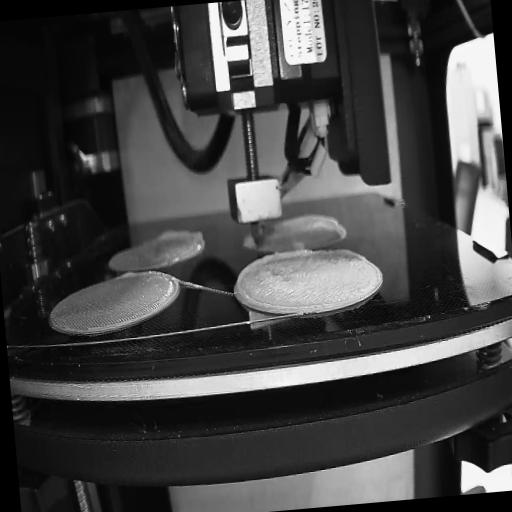over_extrusion: (232, 249, 318, 314), (289, 208, 341, 236), (156, 223, 205, 252), (114, 272, 134, 284)
